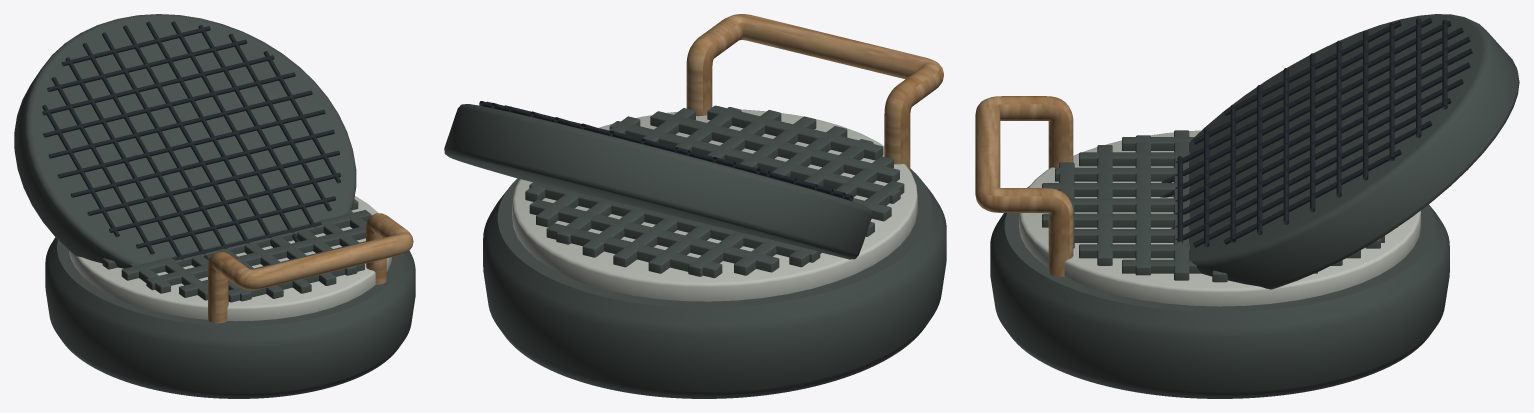
The model's file is waffle-iron.glb.
3 renders of one model, left to right at view 1: azimuth 30°, elevation 25°; view 2: azimuth 150°, elevation 25°; view 3: azimuth 270°, elevation 25°, orthographic. The views are drawn at different scales.
Visible parts, largest first — view 1: catalog_surface_RealismUV; view 2: catalog_surface_RealismUV; view 3: catalog_surface_RealismUV.
Part boxes in pixels (x1,y1,x2,y2): catalog_surface_RealismUV: (14, 14, 415, 398); catalog_surface_RealismUV: (444, 14, 946, 398); catalog_surface_RealismUV: (975, 14, 1519, 398).
Bounding box in the file's own units: 0.28 × 0.19 × 0.35.
Materials: 4 (1 with a texture image).
